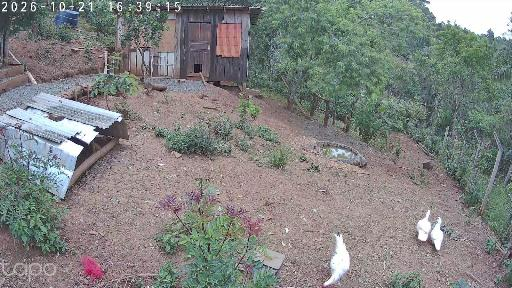galo: (322, 230, 353, 287)
pato: (414, 208, 431, 243), (432, 215, 445, 251)
